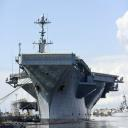Portanaves: (7, 13, 127, 127)
